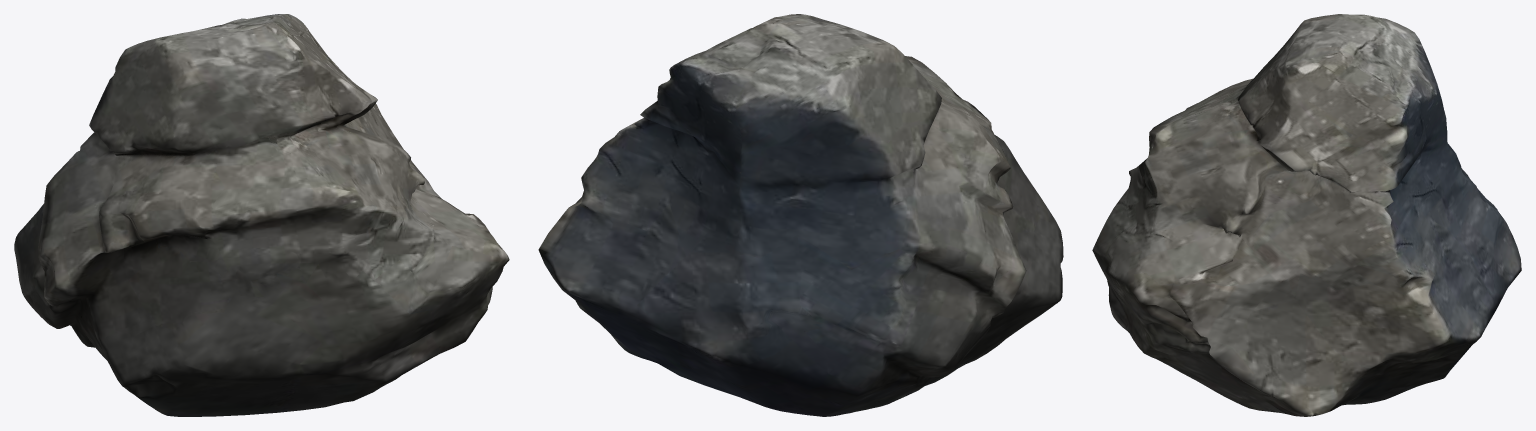
The model's file is rock3.glb.
3 renders of one model, left to right at view 1: azimuth 30°, elevation 25°; view 2: azimuth 150°, elevation 25°; view 3: azimuth 270°, elevation 25°, orthographic. The views are drawn at different scales.
Bounding box in the file's own units: 2.64 × 1.92 × 2.46.
Materials: 1 (1 with a texture image).
